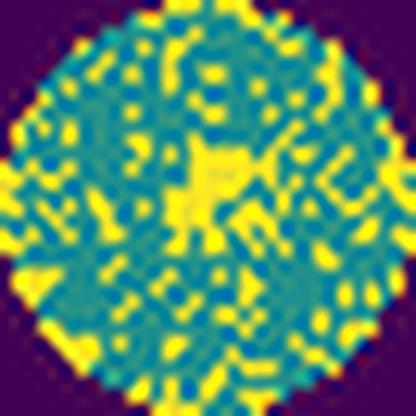Center: (153, 136, 289, 262)
